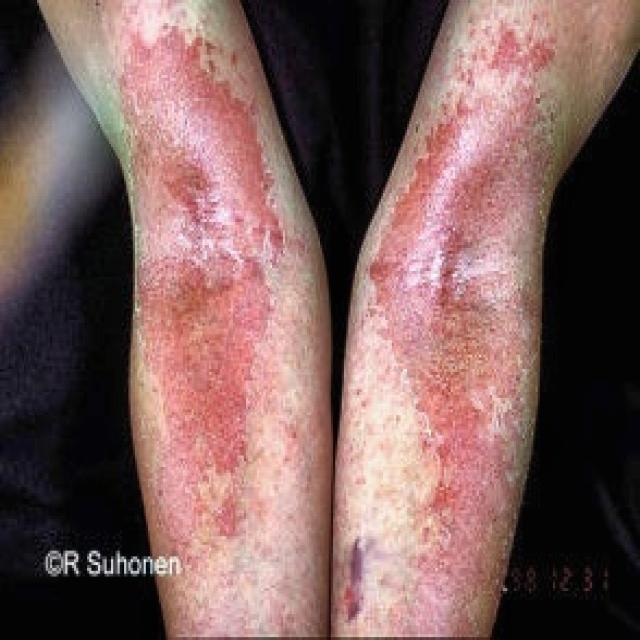Eczema: (42, 2, 640, 636)
